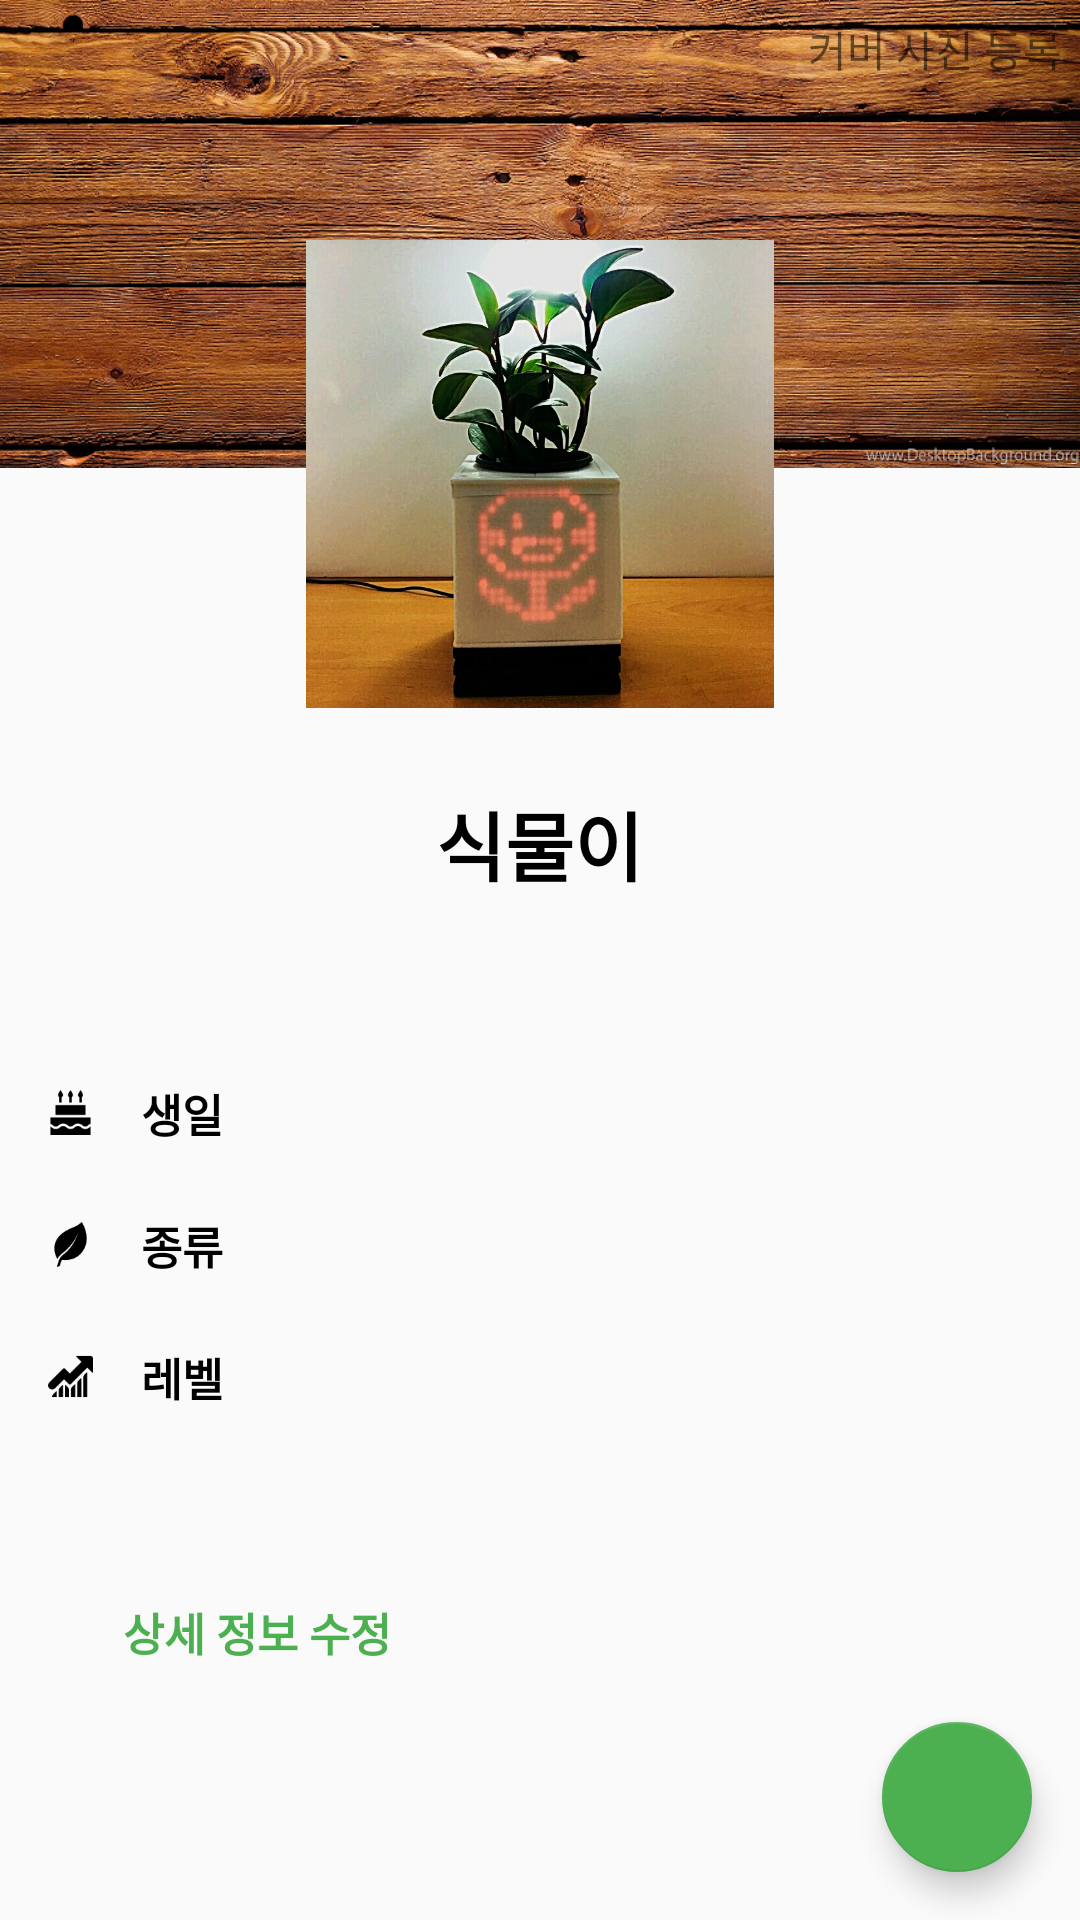

Icon click points for this 1080x1920 phone screenshot, format (x,y):
birth: (70,1112)
growth: (70,1376)
leaf: (70,1244)
